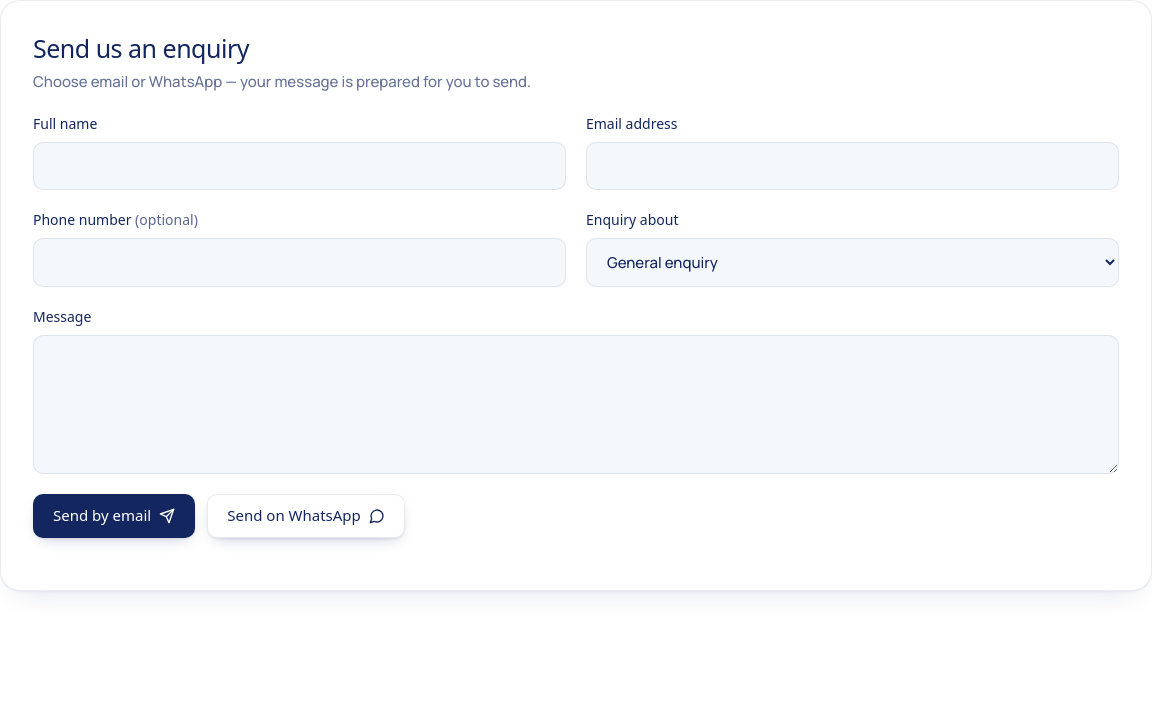
Scenario: EnquiryForm › opens WhatsApp with the message when chosen
The image size is (1152, 720).
In the field labelled "Full name": {"x": 300, "y": 166} 33,142 -> 566,190, type "Ada Obi"
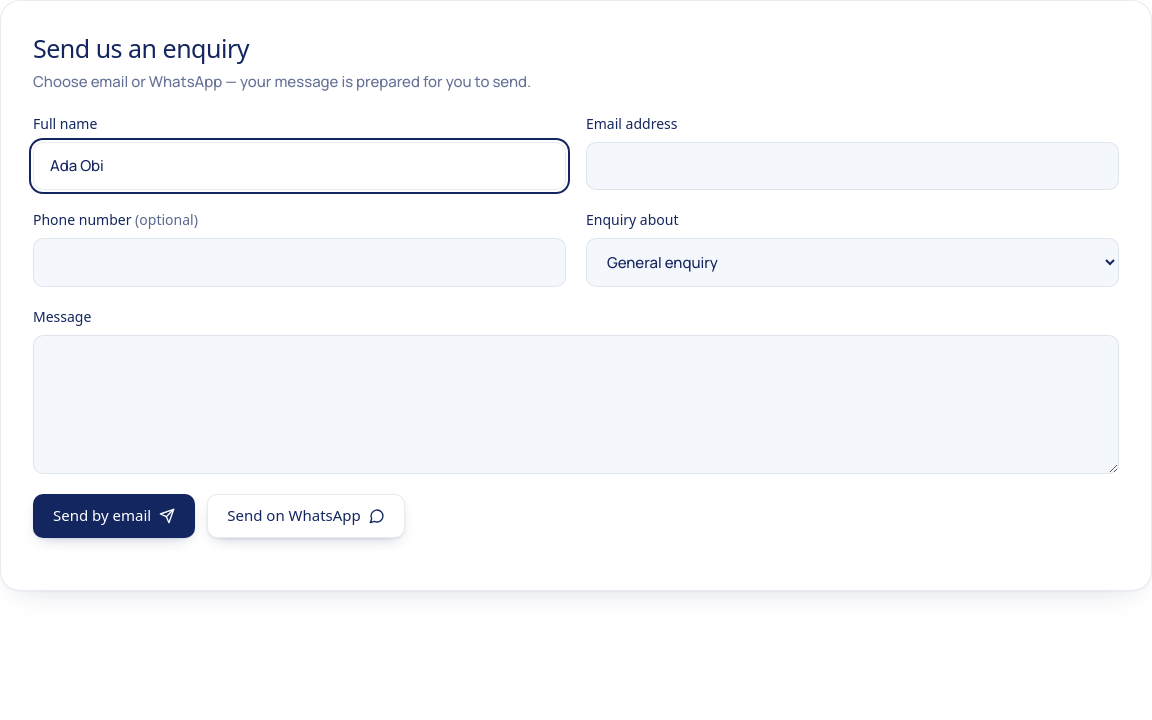
In the field labelled "Email address": {"x": 852, "y": 166} 586,142 -> 1119,190, type "ada@example.com"
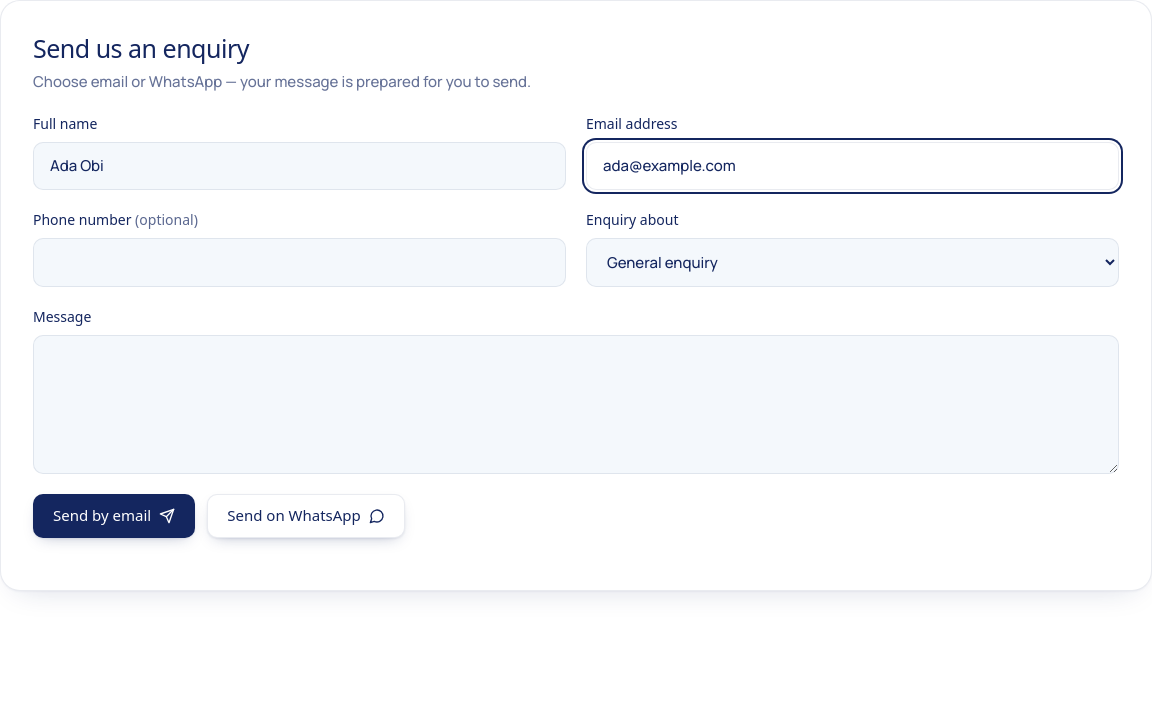
In the text box labelled "Message": {"x": 576, "y": 404} 33,335 -> 1119,474, type "Please share pricing for Goshen."
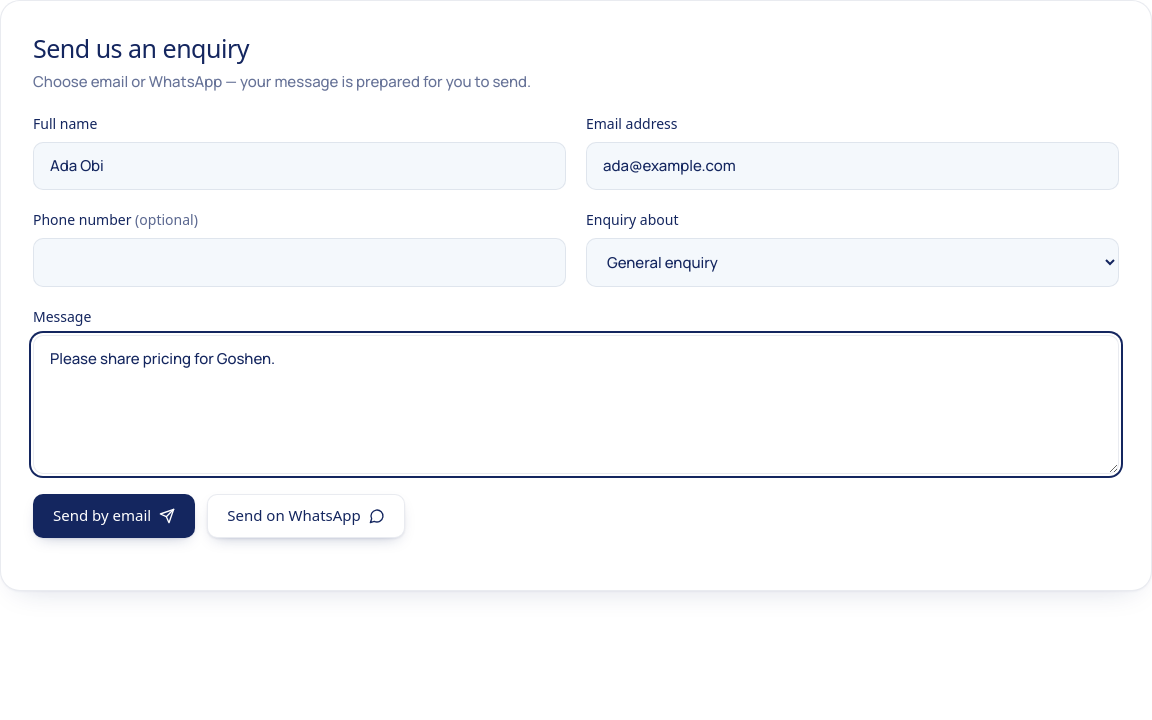
Click the button "Send on WhatsApp": {"x": 306, "y": 516} 207,494 -> 405,538
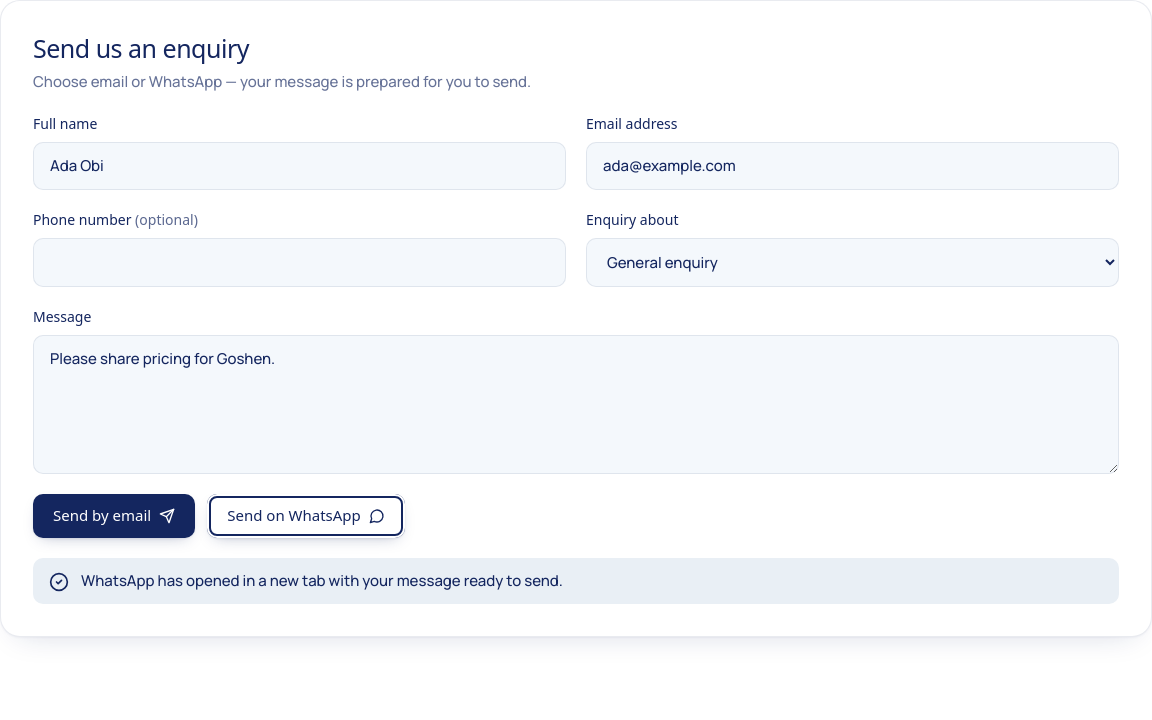
Expected: the message shows "WhatsApp has opened", 81,570 -> 563,590
